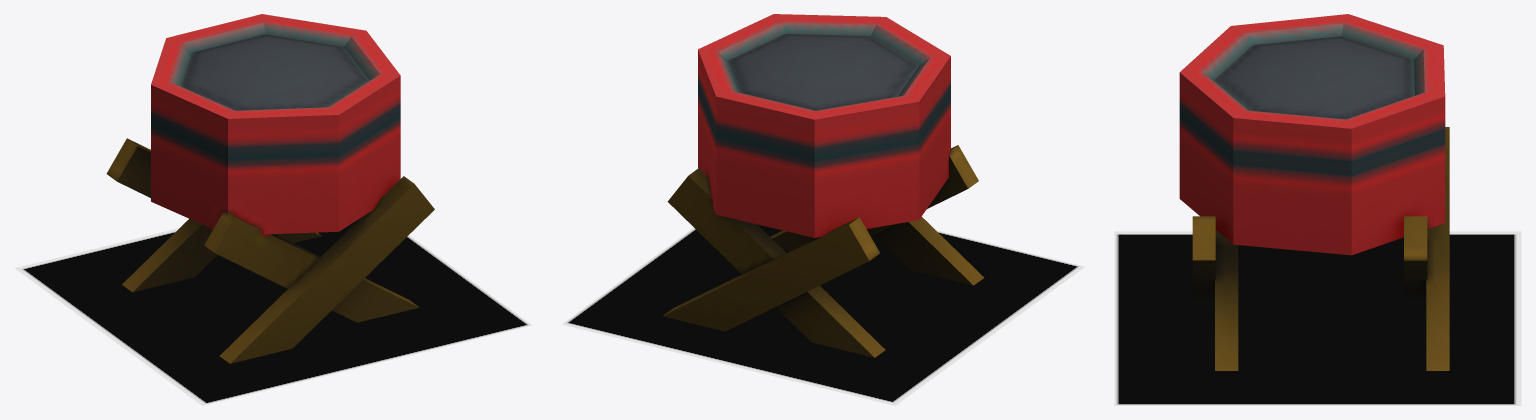
The model's file is 1x1_drum.FBX.
3 renders of one model, left to right at view 1: azimuth 30°, elevation 25°; view 2: azimuth 150°, elevation 25°; view 3: azimuth 270°, elevation 25°, orthographic. The views are drawn at different scales.
Parts seen in each view (by area): view 1: 1x1_drum, 1x1_drum_soft_shadow; view 2: 1x1_drum, 1x1_drum_soft_shadow; view 3: 1x1_drum, 1x1_drum_soft_shadow.
Boxes of the visible parts, x1,y1,x2,y2 form: 1x1_drum: [106, 14, 434, 363]; 1x1_drum_soft_shadow: [15, 218, 532, 405]; 1x1_drum: [662, 14, 984, 357]; 1x1_drum_soft_shadow: [561, 224, 1084, 405]; 1x1_drum: [1179, 14, 1449, 370]; 1x1_drum_soft_shadow: [1114, 231, 1521, 405].
Bounding box in the file's own units: 1427 × 1015 × 1409.
